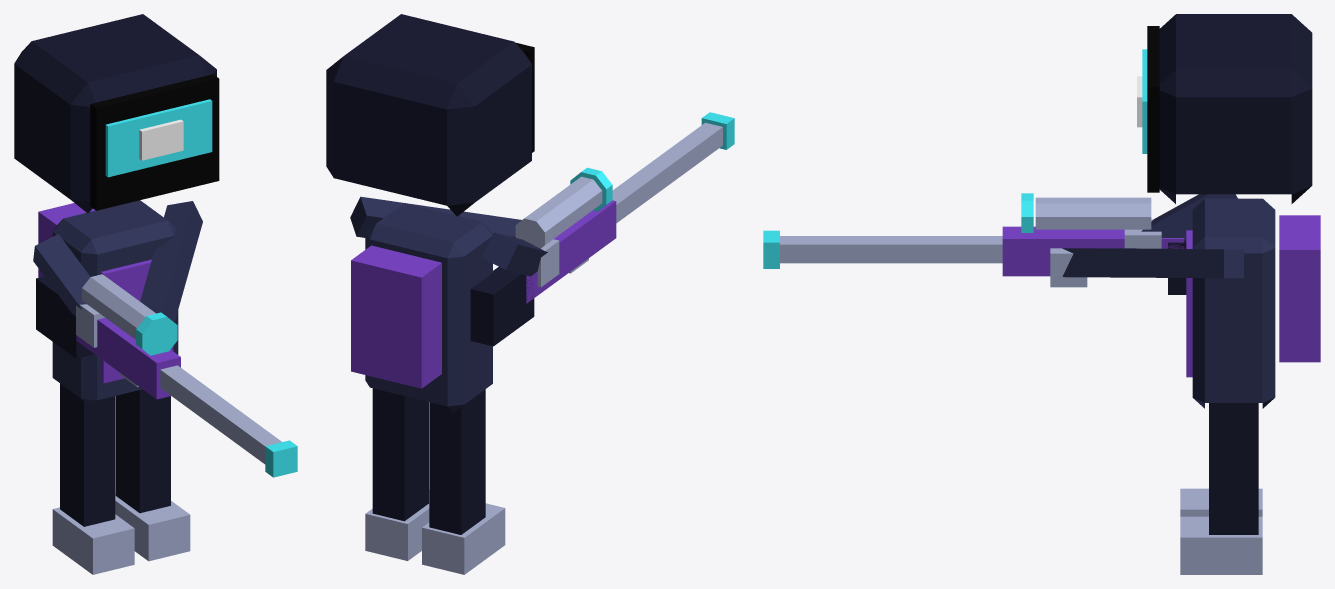
The model's file is sniper_enemy_r8.glb.
3 views of the same model, side by side, from view 1: azimuth 30°, elevation 25°; view 2: azimuth 150°, elevation 25°; view 3: azimuth 270°, elevation 25° (orthographic). The views are drawn at different scales.
Parts seen in each view (by area): view 1: sniper_enemy_r8_mesh; view 2: sniper_enemy_r8_mesh; view 3: sniper_enemy_r8_mesh.
Part boxes in pixels (left/top/right/bottom): sniper_enemy_r8_mesh: left=14, top=14, right=297, bottom=574; sniper_enemy_r8_mesh: left=326, top=14, right=734, bottom=574; sniper_enemy_r8_mesh: left=763, top=14, right=1320, bottom=574.
Size of the model in its own units: 0.5986 by 1.7 by 1.69.
1 material, 1 textured.
